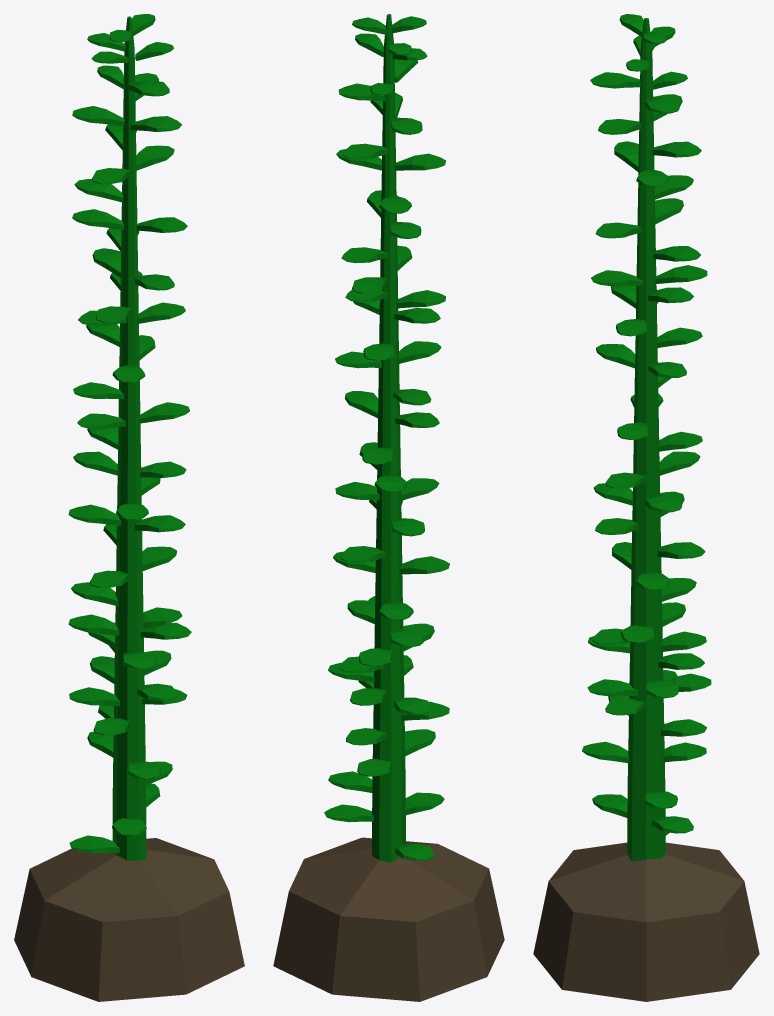
The model's file is Plant2.fbx.
The picture shows the model from 3 angles, left to right: view 1: azimuth 30°, elevation 25°; view 2: azimuth 150°, elevation 25°; view 3: azimuth 270°, elevation 25°; orthographic projection.
Visible parts, largest first — view 1: Cube; view 2: Cube; view 3: Cube.
Part boxes in pixels (x1,y1,x2,y2): Cube: (14, 14, 244, 1001); Cube: (273, 14, 504, 1001); Cube: (533, 14, 759, 1001).
Size of the model in its own units: 1.38 by 6.3 by 1.38.
